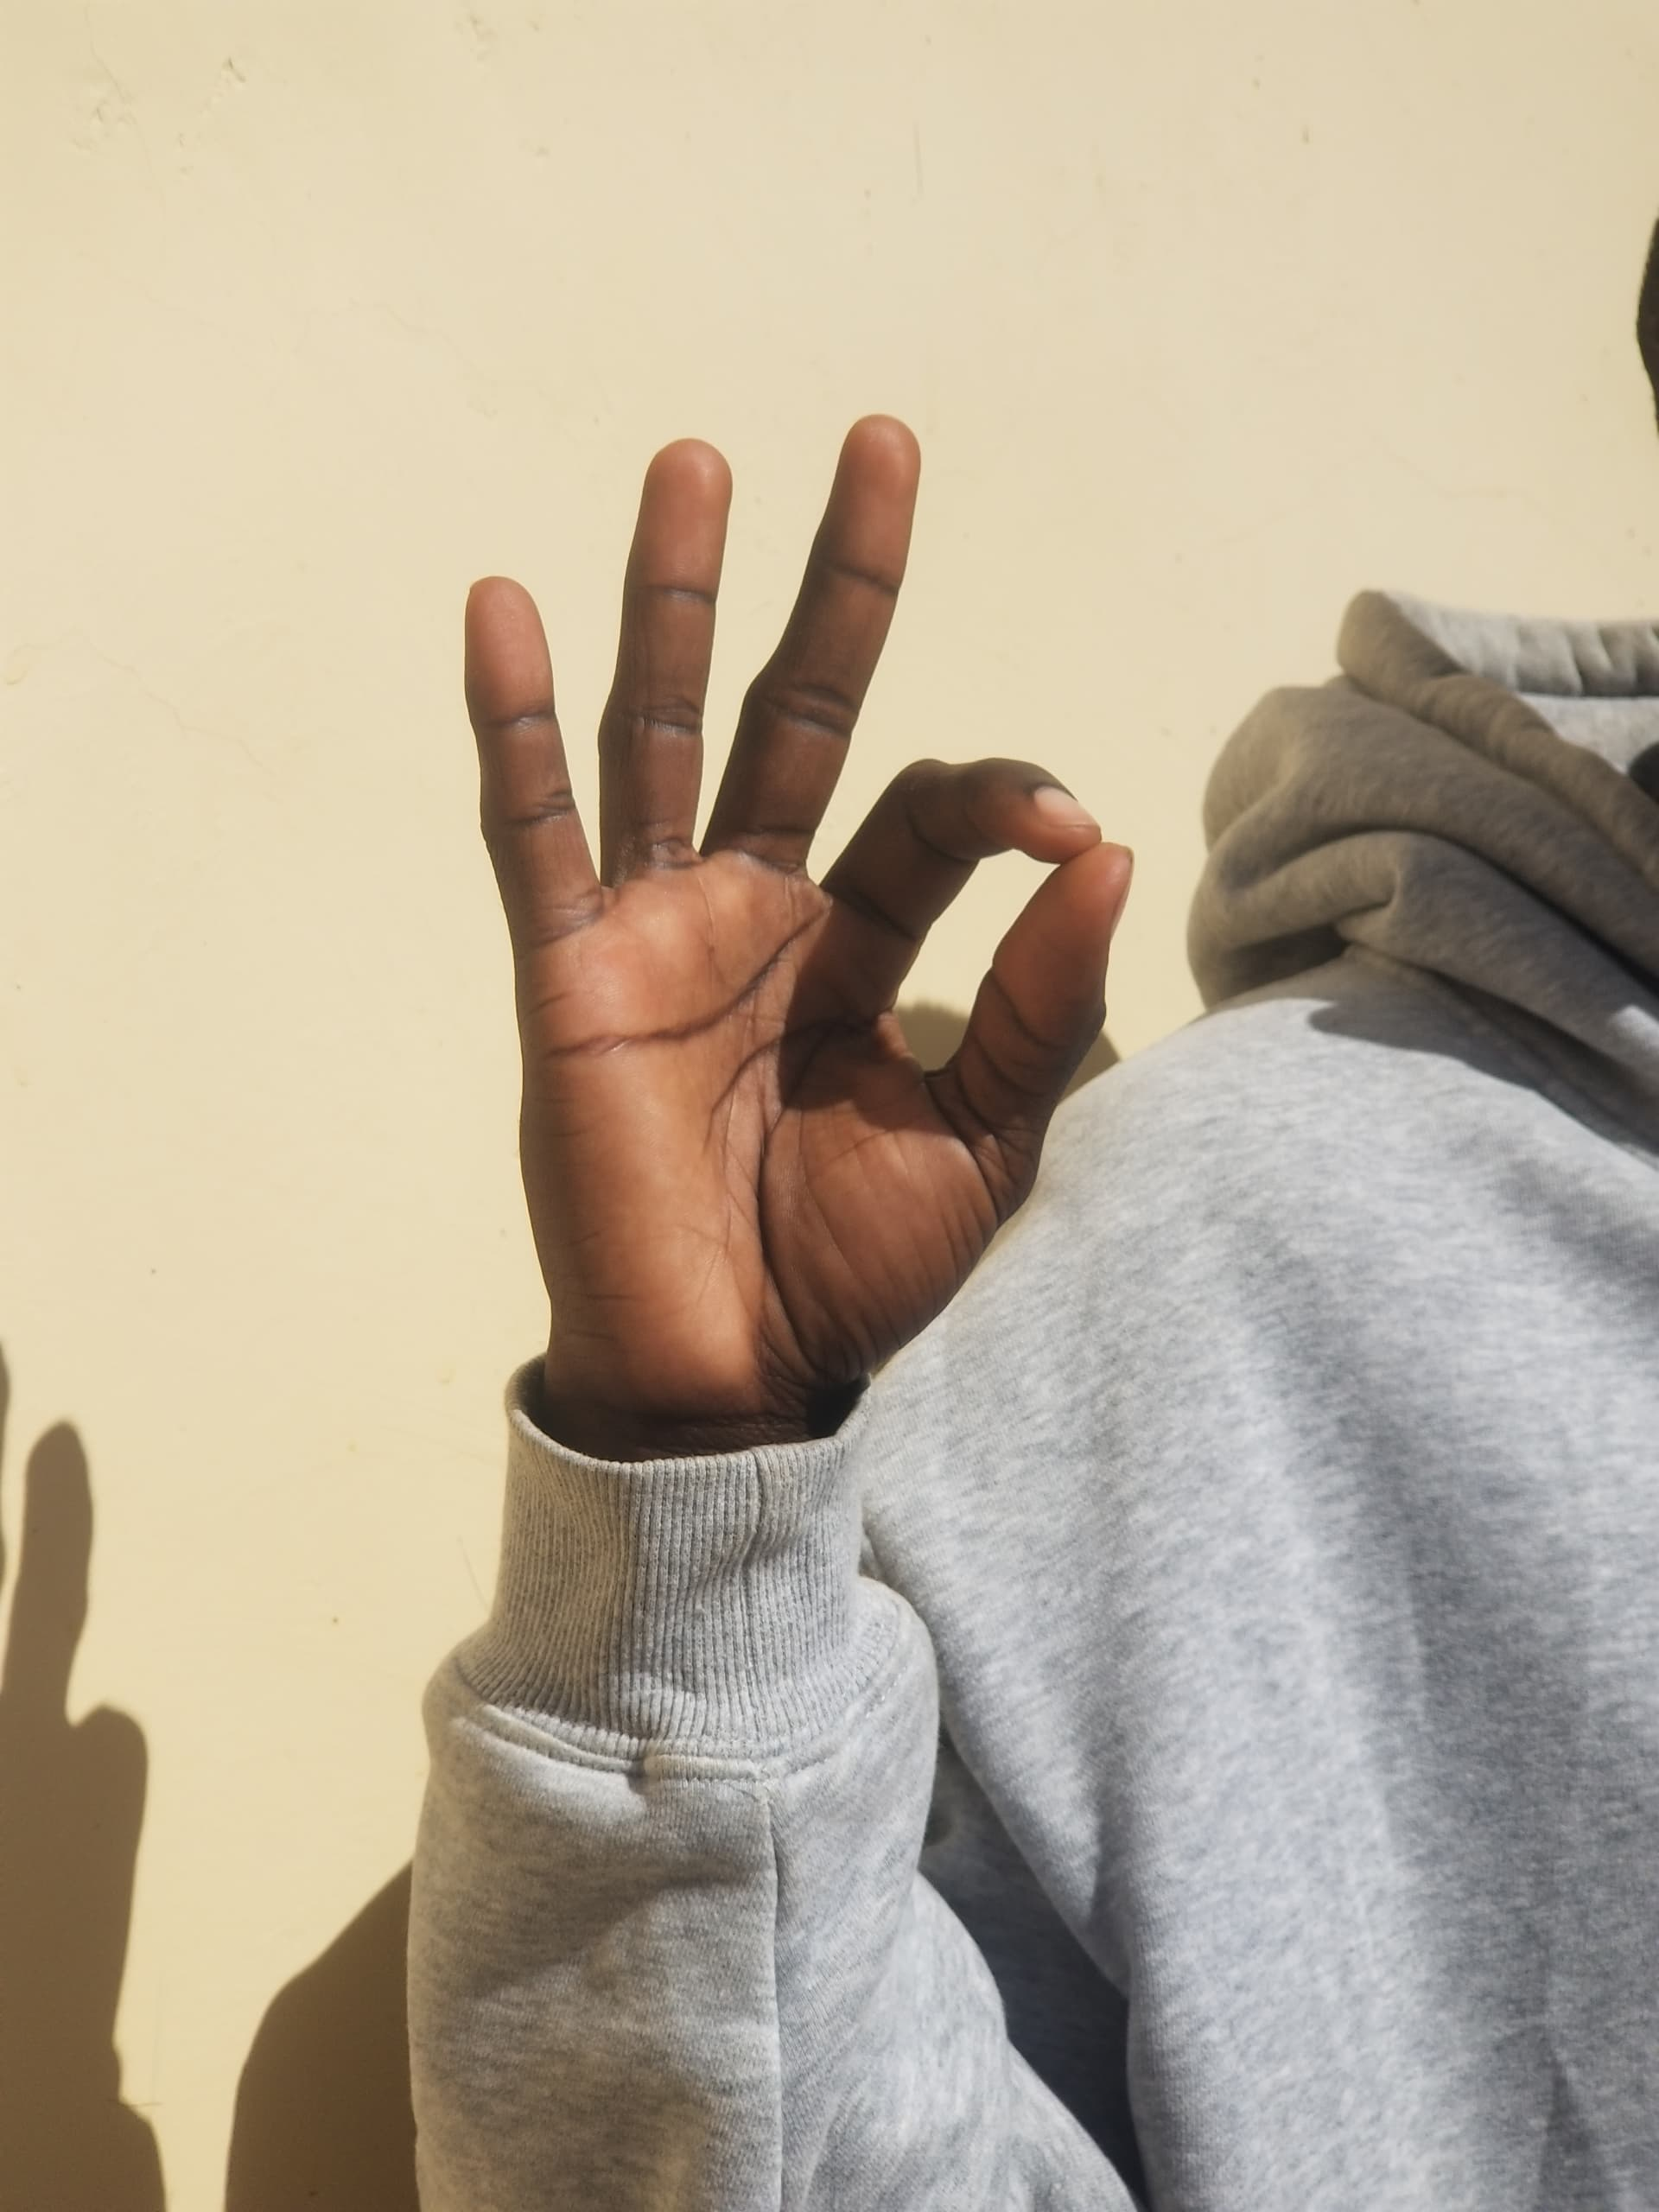okay: (301, 362, 1202, 1554)
